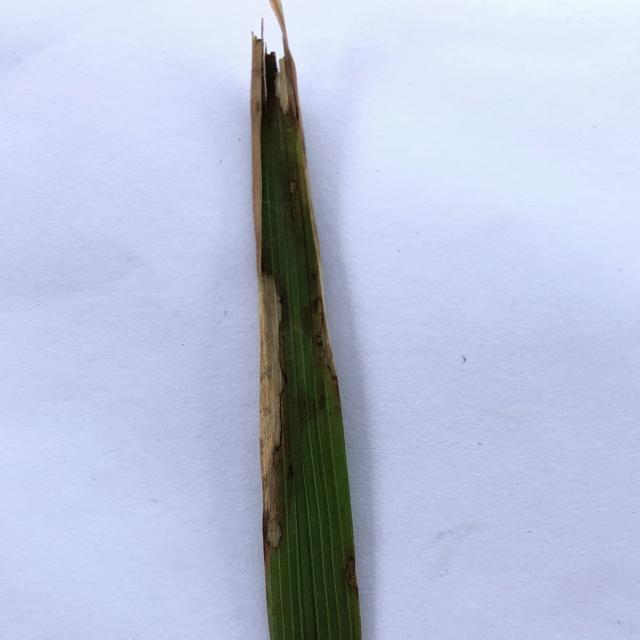leaf blight: (247, 0, 288, 551)
